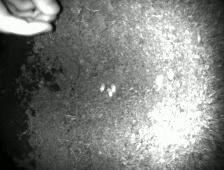corn: (153, 71, 167, 87), (97, 81, 107, 94), (109, 81, 119, 94), (105, 85, 114, 99)
